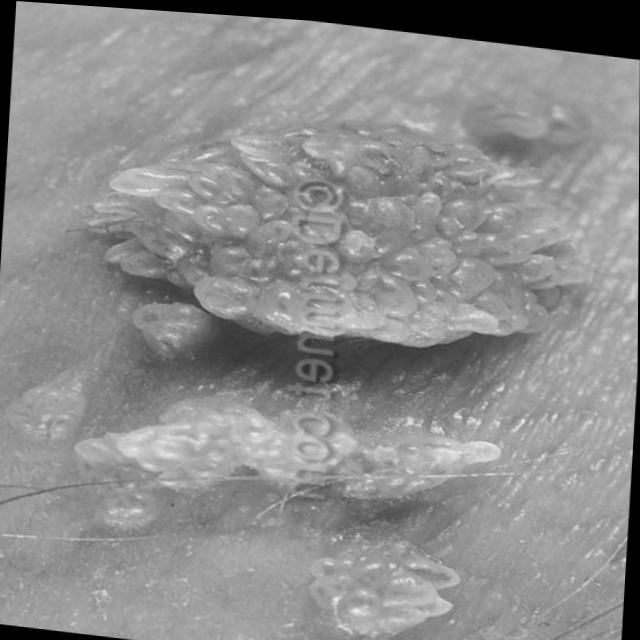Shingles: (90, 91, 540, 640)
